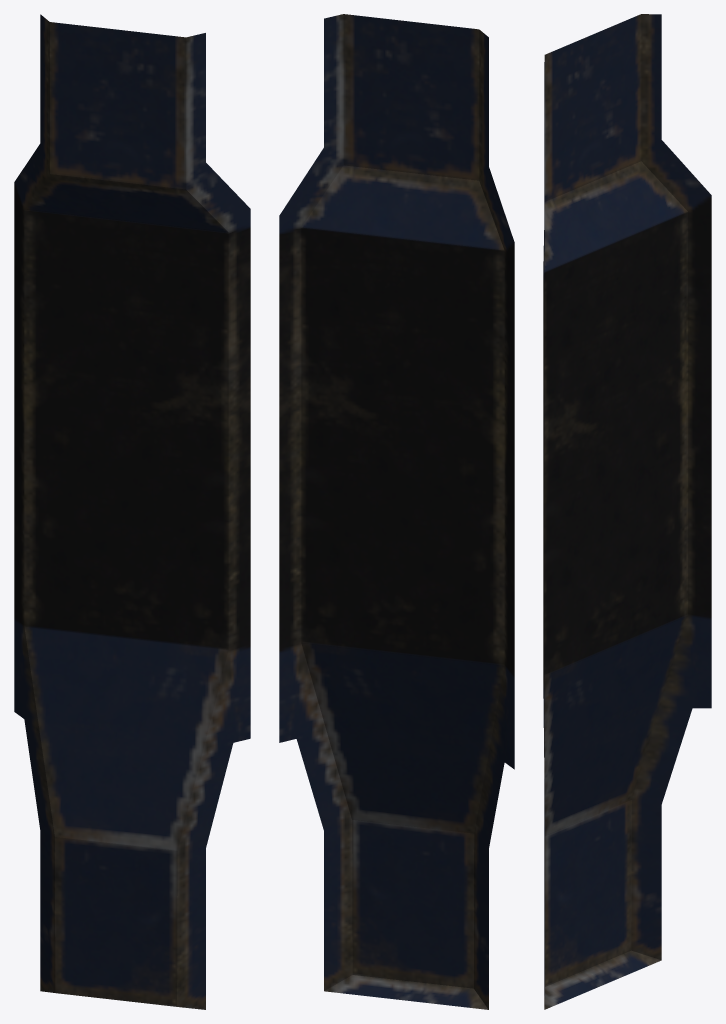
The model's file is mesh_BuildingA_TrimCornerInner_v2.3.fbx.
The picture shows the model from 3 angles, left to right: view 1: azimuth 30°, elevation 25°; view 2: azimuth 210°, elevation 25°; view 3: azimuth 270°, elevation 25°; orthographic projection. The views are drawn at different scales.
Visible parts, largest first — view 1: mesh_BuildingA_TrimCornerInner; view 2: mesh_BuildingA_TrimCornerInner; view 3: mesh_BuildingA_TrimCornerInner.
Boxes of the visible parts, x1,y1,x2,y2 form: mesh_BuildingA_TrimCornerInner: (14, 14, 250, 1009); mesh_BuildingA_TrimCornerInner: (279, 14, 514, 1009); mesh_BuildingA_TrimCornerInner: (543, 14, 711, 1009).
Size of the model in its own units: 32.59 by 200 by 32.33.
